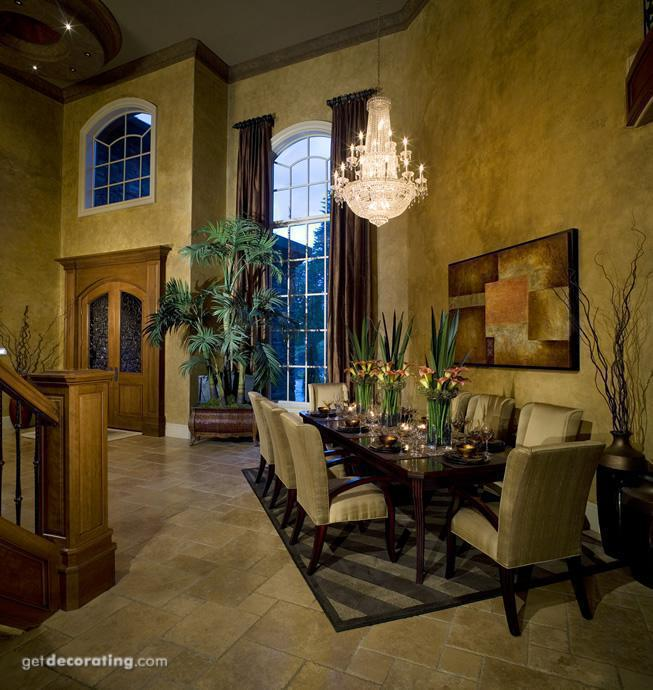Matera: (163, 213, 267, 436)
Puerta: (70, 273, 157, 424)
